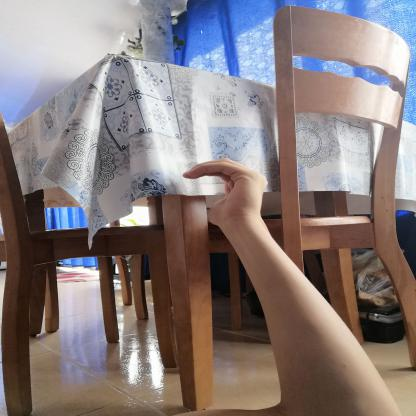HAA: (174, 152, 277, 236)
